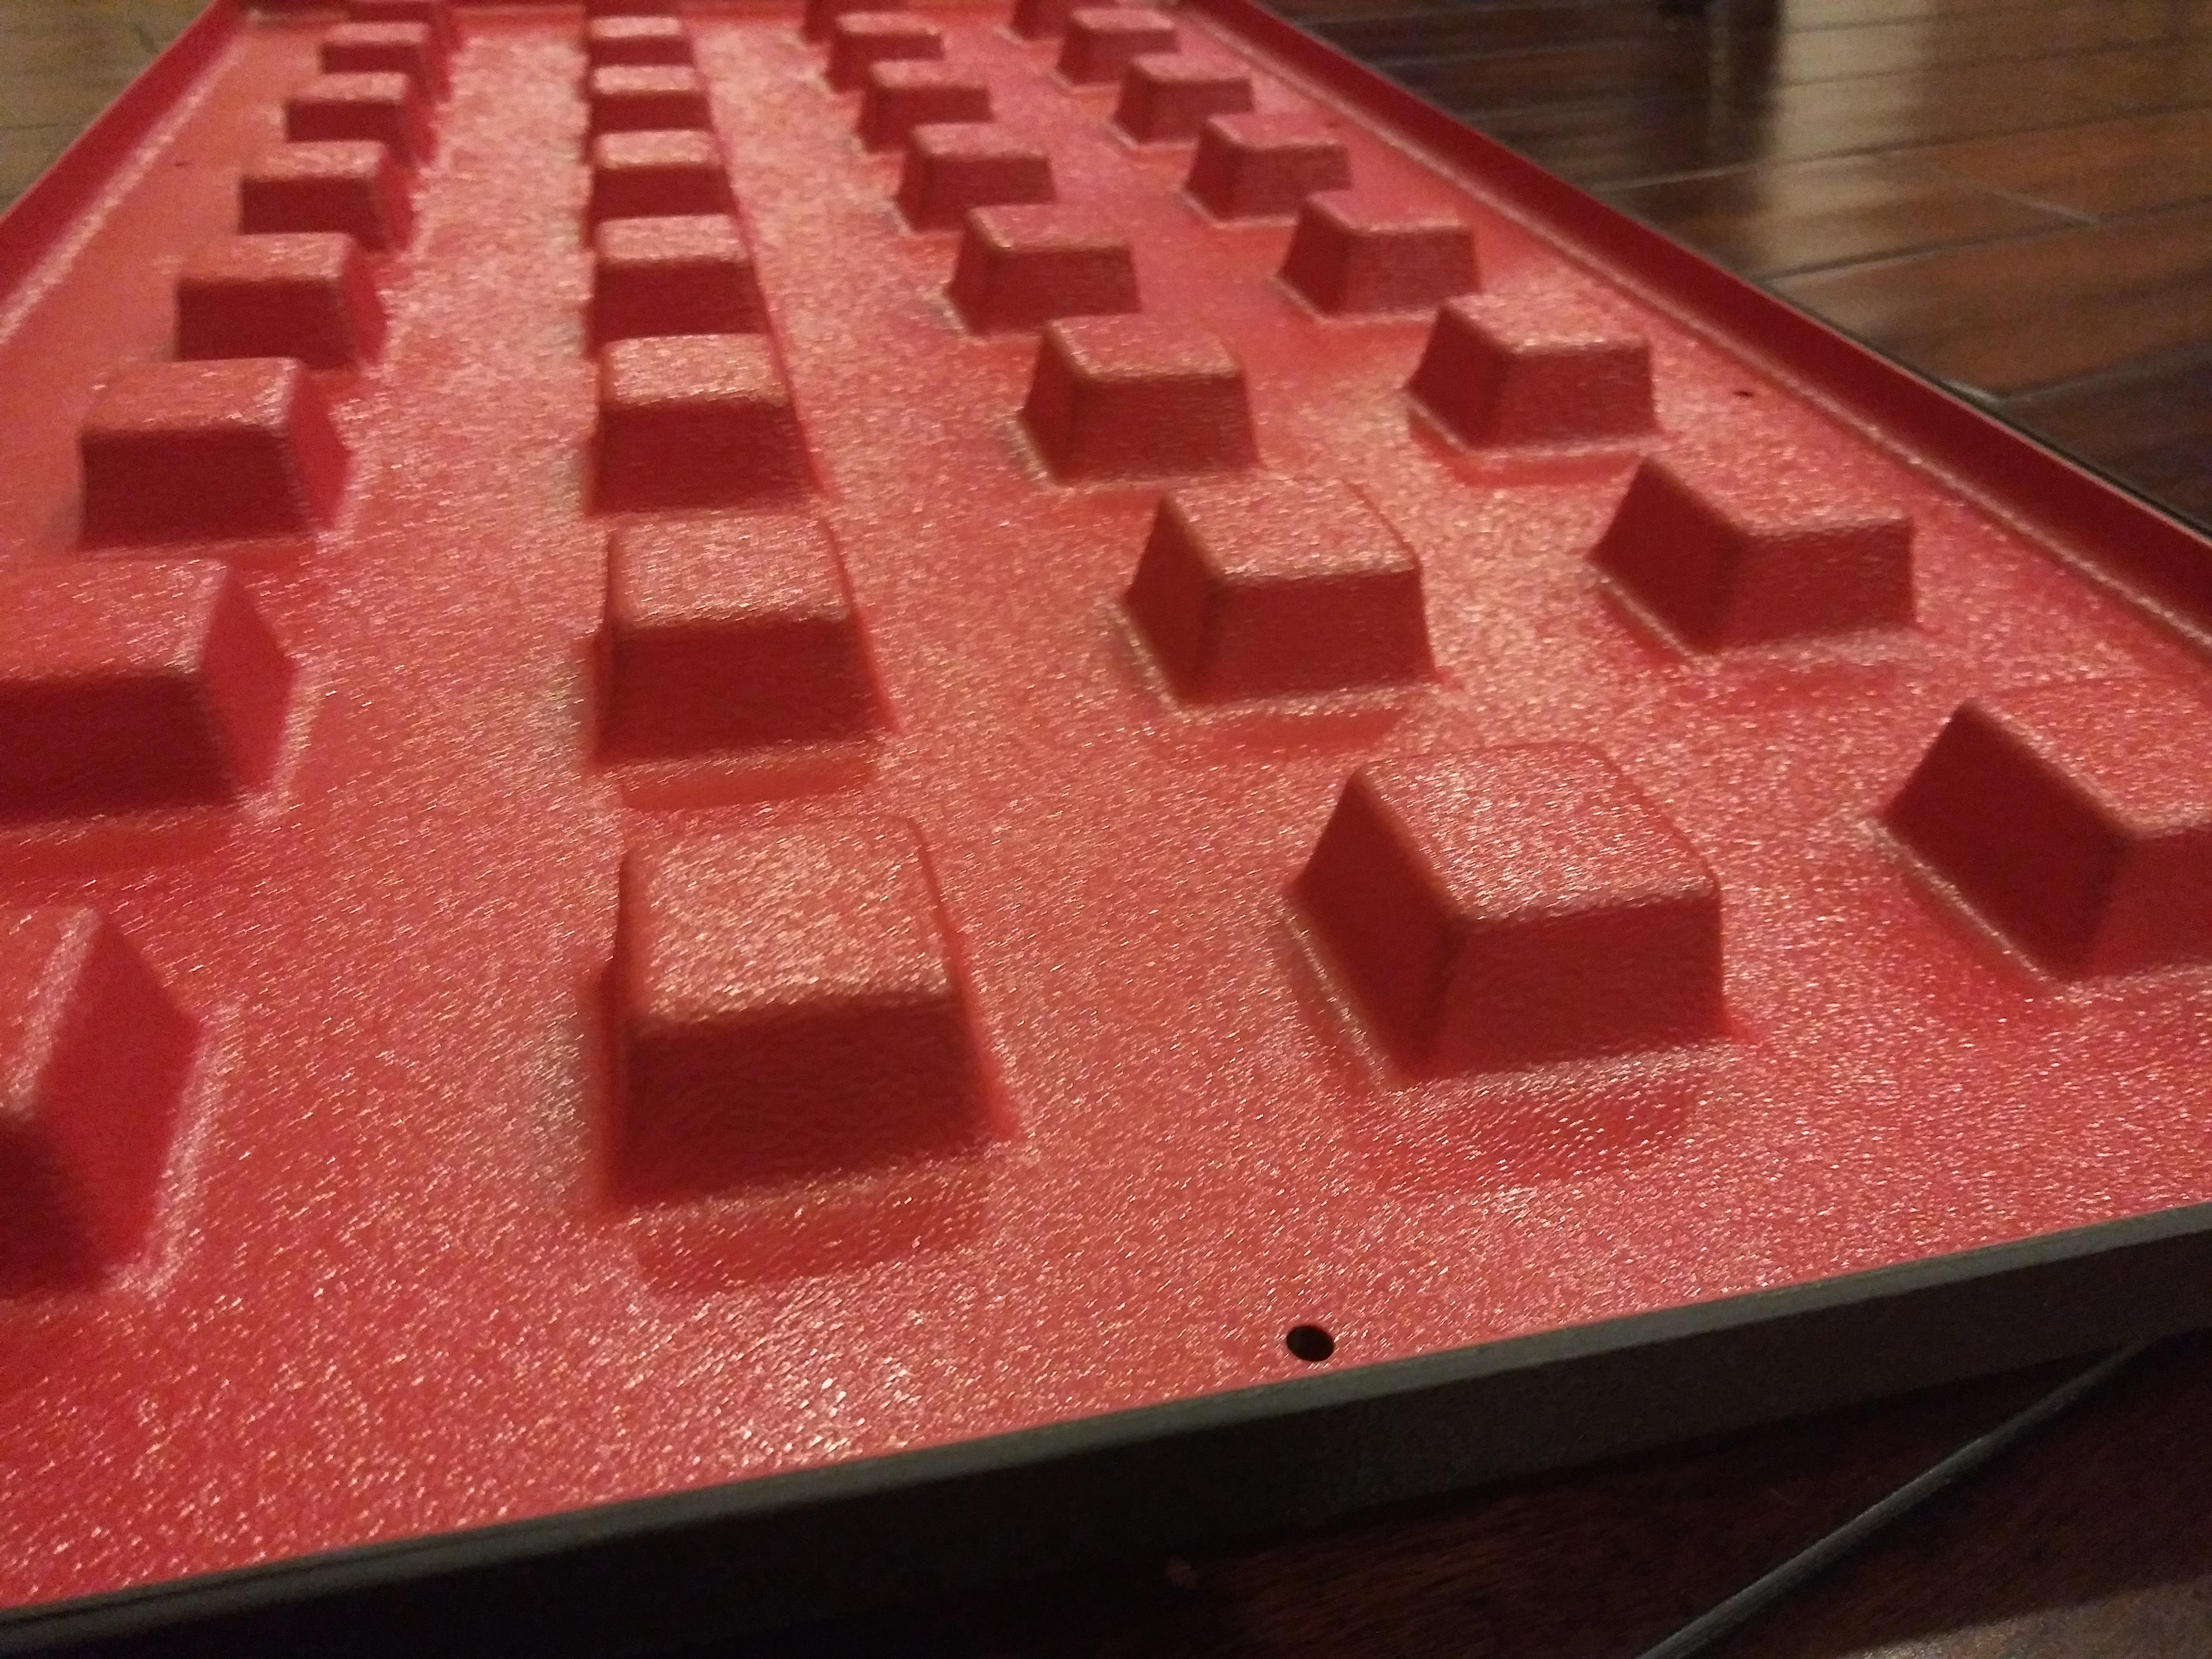red foundation: (40, 59, 2085, 1467)
